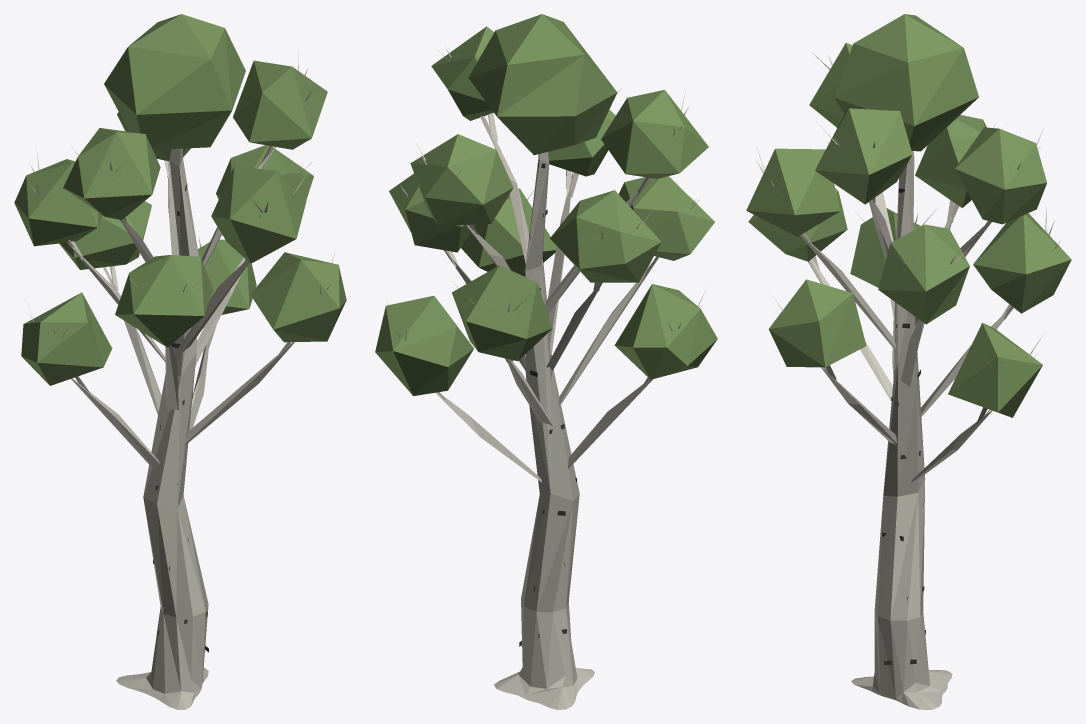
The model's file is birch_summer.glb.
The picture shows the model from 3 angles, left to right: view 1: azimuth 30°, elevation 25°; view 2: azimuth 150°, elevation 25°; view 3: azimuth 270°, elevation 25°; orthographic projection.
Visible parts, largest first — view 1: leaves, branches; view 2: leaves, branches; view 3: leaves, branches.
Part boxes in pixels (bbox=[...]): leaves: bbox=[14, 14, 346, 385]; branches: bbox=[24, 51, 335, 709]; leaves: bbox=[375, 14, 717, 395]; branches: bbox=[384, 30, 704, 709]; leaves: bbox=[746, 14, 1071, 417]; branches: bbox=[756, 53, 1059, 709].
Size of the model in its own units: 2.7 by 5.7 by 2.48.
